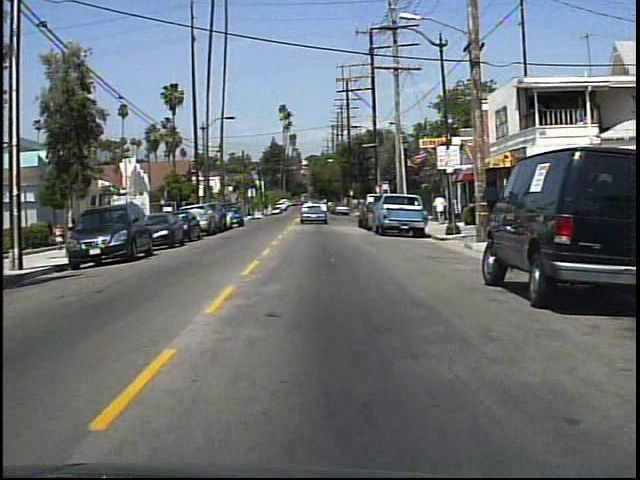person: (431, 191, 450, 228), (55, 222, 71, 251)
